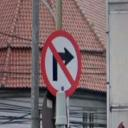NoVirarDireita: (40, 28, 84, 101)
